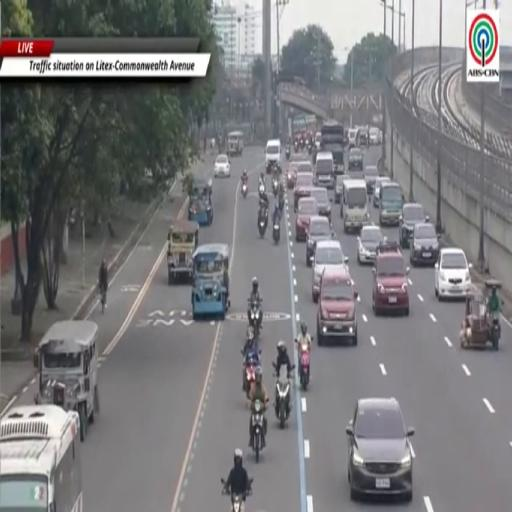bus: (0, 405, 82, 511), (320, 121, 345, 174), (321, 121, 344, 142)
car: (346, 398, 414, 501), (317, 268, 357, 345), (372, 242, 409, 315), (312, 240, 348, 302), (435, 248, 472, 300), (306, 216, 335, 266), (399, 203, 429, 248), (410, 222, 439, 266), (357, 226, 384, 264), (295, 198, 318, 242), (294, 171, 313, 209), (310, 187, 331, 221), (373, 176, 390, 206), (334, 175, 350, 203), (364, 166, 378, 195), (214, 154, 230, 178), (348, 148, 363, 170), (286, 162, 297, 190), (348, 128, 358, 149), (297, 159, 313, 172), (359, 127, 368, 147), (370, 127, 380, 145), (291, 153, 304, 163)
jeepney: (34, 320, 99, 440), (192, 244, 229, 319), (168, 219, 199, 284), (188, 181, 213, 226), (227, 132, 244, 155)
motorcycle: (273, 362, 291, 428), (221, 478, 253, 511), (251, 400, 265, 462), (242, 350, 260, 398), (298, 344, 309, 391), (249, 302, 262, 340), (490, 314, 500, 350), (258, 215, 266, 238), (272, 177, 279, 197), (278, 194, 285, 213), (273, 223, 279, 244), (259, 182, 265, 196), (266, 162, 273, 173), (242, 183, 247, 198), (286, 146, 290, 159), (294, 142, 299, 152), (300, 138, 304, 149)
